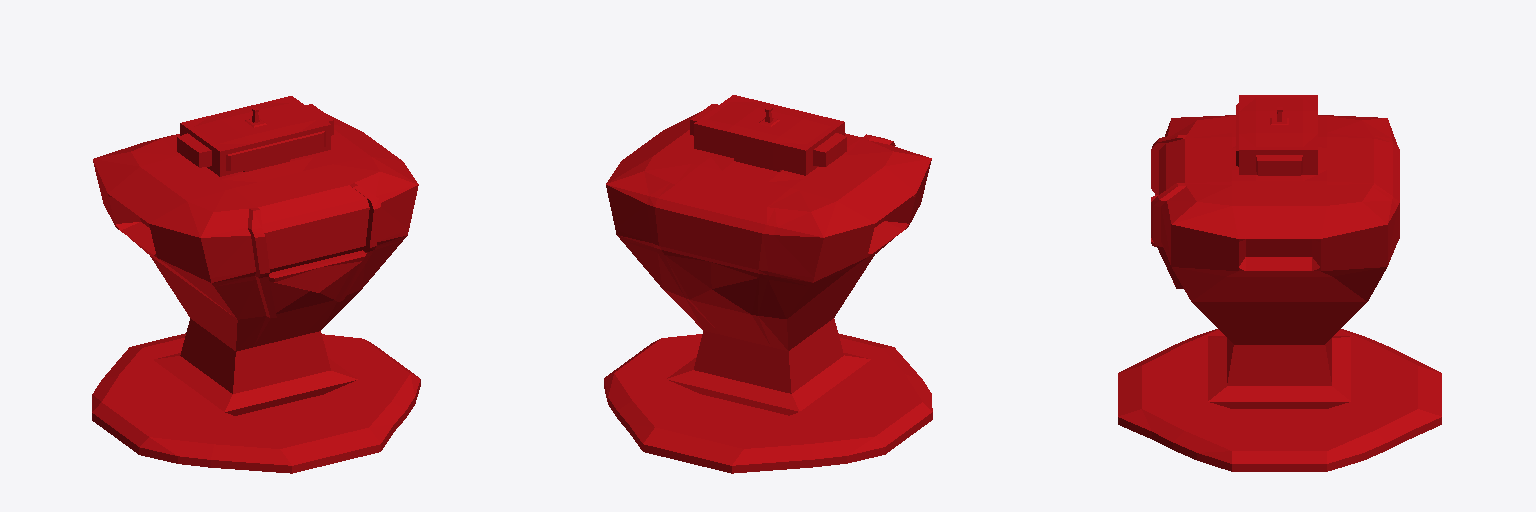
3 renders of one model, left to right at view 1: azimuth 30°, elevation 25°; view 2: azimuth 150°, elevation 25°; view 3: azimuth 270°, elevation 25°, orthographic.
Parts seen in each view (by area): view 1: _Player; view 2: _Player; view 3: _Player.
Boxes of the visible parts, x1=… form: _Player: x1=92, y1=96, x2=420, y2=473; _Player: x1=604, y1=95, x2=932, y2=473; _Player: x1=1118, y1=95, x2=1441, y2=471.
Bounding box in the file's own units: 2 × 2 × 2.
1 materials, 1 textured.